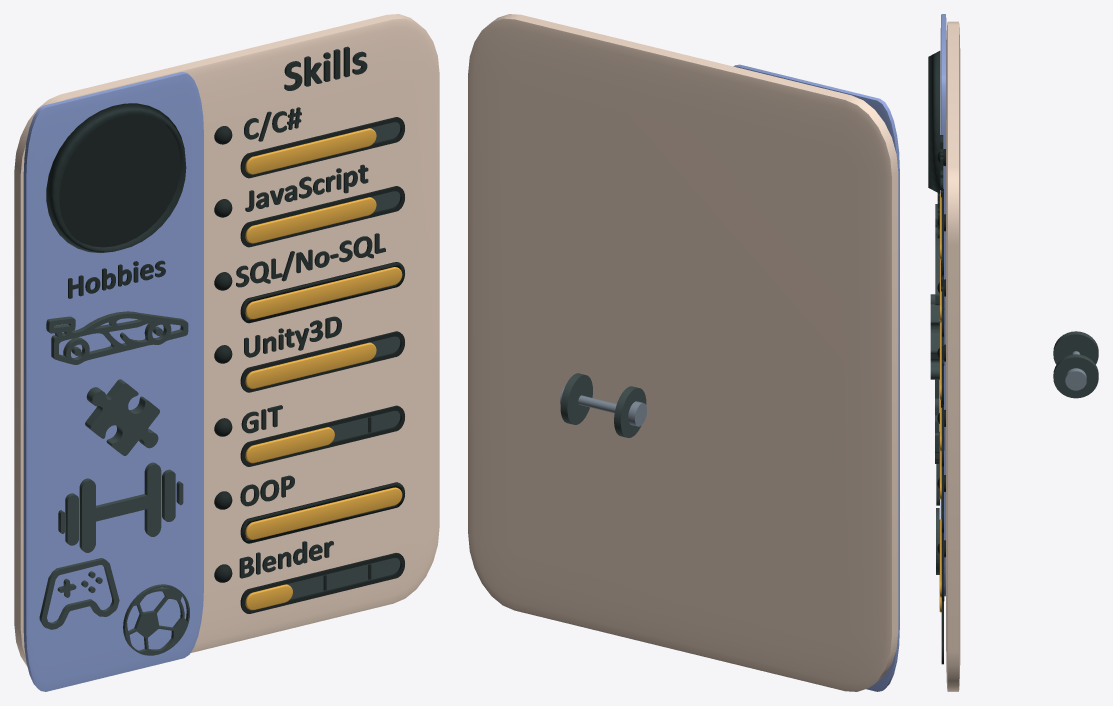
3 renders of one model, left to right at view 1: azimuth 30°, elevation 25°; view 2: azimuth 150°, elevation 25°; view 3: azimuth 270°, elevation 25°, orthographic. The views are drawn at different scales.
Parts seen in each view (by area): view 1: Main_Side, Left_Side, Picture, Dumbell, Picture_frame, Car, Puzzle, ProgressBase7, Progress3, Progress6, ProgressBase5, Progress1 (+19 smaller); view 2: Main_Side, Dumbell3d, Left_Side; view 3: Main_Side, Dumbell3d, Picture_frame, Left_Side, Puzzle, Car, Dumbell.
Boxes of the visible parts, left/top/right/bottom form: Main_Side: left=14, top=14, right=439, bottom=666; Left_Side: left=23, top=72, right=203, bottom=691; Picture: left=59, top=115, right=180, bottom=247; Dumbell: left=58, top=462, right=183, bottom=552; Picture_frame: left=46, top=103, right=186, bottom=253; Car: left=46, top=311, right=188, bottom=364; Puzzle: left=85, top=379, right=159, bottom=455; ProgressBase7: left=240, top=553, right=404, bottom=613; Progress3: left=245, top=267, right=402, bottom=319; Progress6: left=245, top=487, right=402, bottom=539; ProgressBase5: left=240, top=405, right=404, bottom=466; Progress1: left=245, top=128, right=376, bottom=174; Main_Side: left=468, top=14, right=898, bottom=691; Dumbell3d: left=560, top=373, right=646, bottom=437; Left_Side: left=733, top=64, right=899, bottom=691; Main_Side: left=946, top=21, right=960, bottom=691; Dumbell3d: left=1053, top=331, right=1098, bottom=398; Picture_frame: left=928, top=51, right=940, bottom=193; Left_Side: left=940, top=14, right=946, bottom=596; Puzzle: left=930, top=294, right=940, bottom=379; Car: left=935, top=204, right=939, bottom=305; Dumbell: left=935, top=379, right=939, bottom=463.
Size of the model in its own units: 3 by 4 by 1.19.
